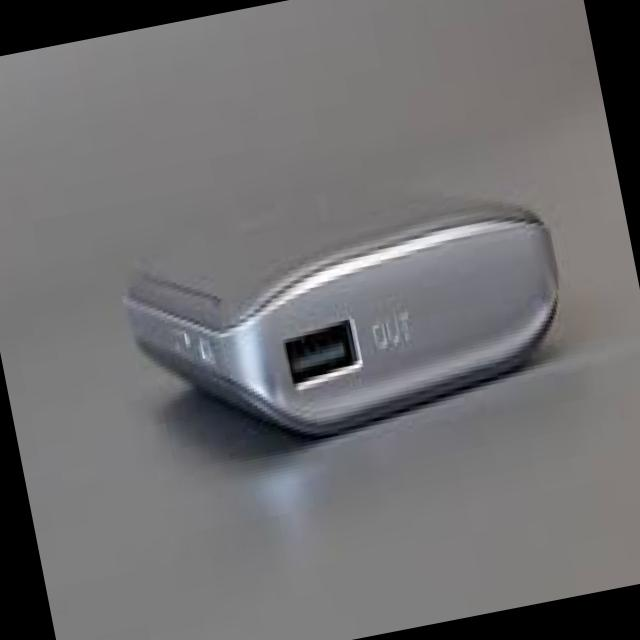power_bank: (116, 154, 586, 474)
